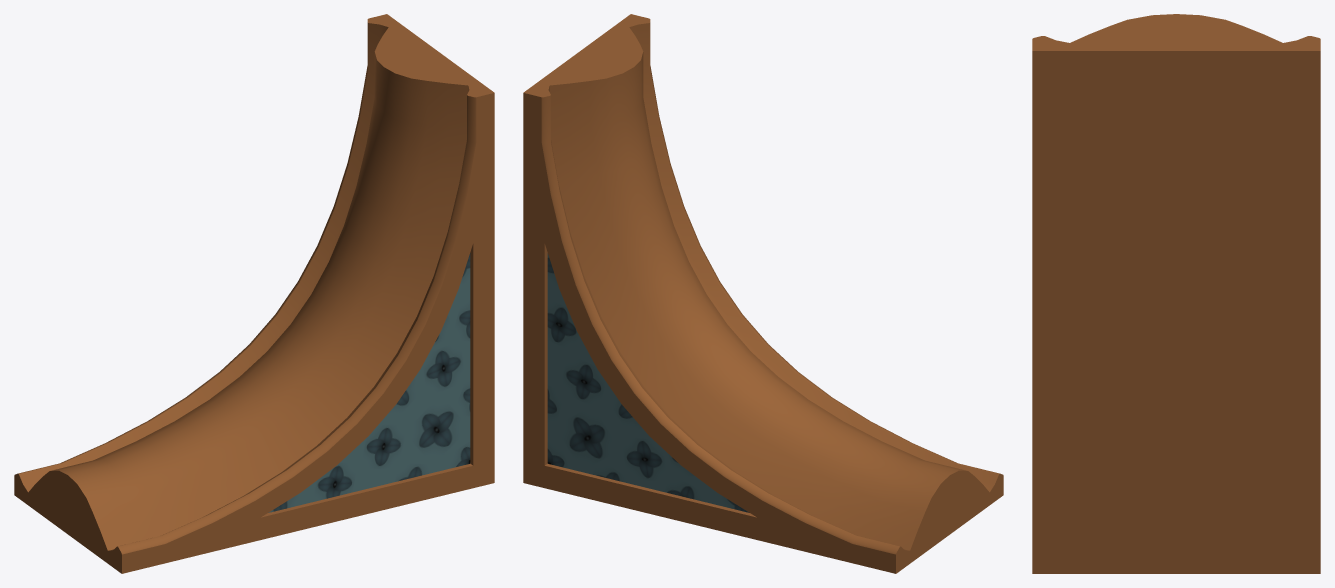
File: CI_024_025_026_027_wall_deco_round_corner_L_blue.glb
3 views of the same model, side by side, from view 1: azimuth 30°, elevation 25°; view 2: azimuth 150°, elevation 25°; view 3: azimuth 270°, elevation 25° (orthographic). The views are drawn at different scales.
Parts seen in each view (by area): view 1: wall_deco, wall_blue; view 2: wall_deco, wall_blue; view 3: wall_deco.
Boxes of the visible parts, box(x1,y1,x2,y2) form: wall_deco: box(14, 14, 494, 573); wall_blue: box(268, 253, 470, 512); wall_deco: box(523, 14, 1003, 573); wall_blue: box(547, 253, 749, 512); wall_deco: box(1032, 14, 1320, 573).
Bounding box in the file's own units: 1.5 × 1.5 × 0.75.
2 materials, 1 textured.
